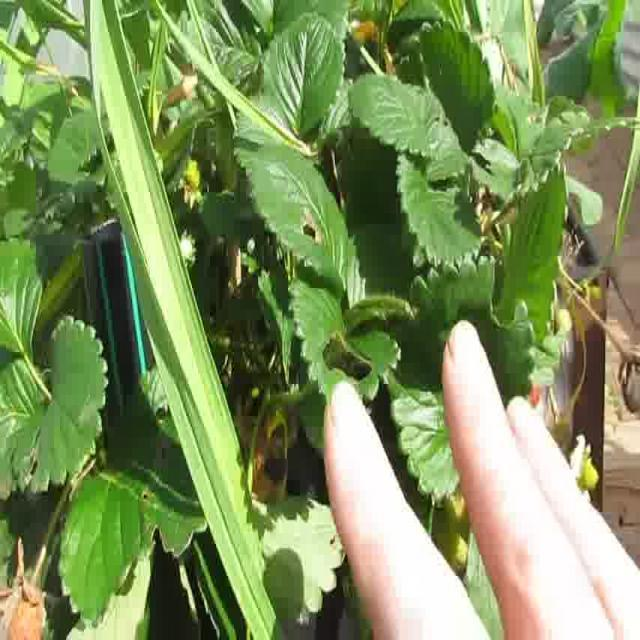Moho gris: (3, 550, 48, 640)
